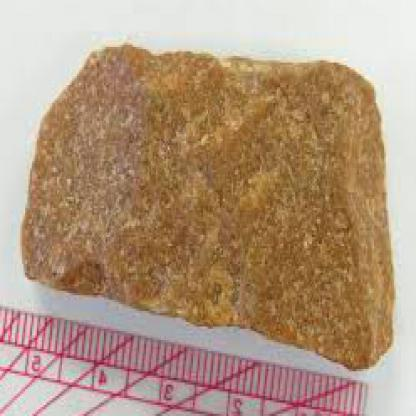Metamorphic_Quartize: (15, 36, 396, 369)
